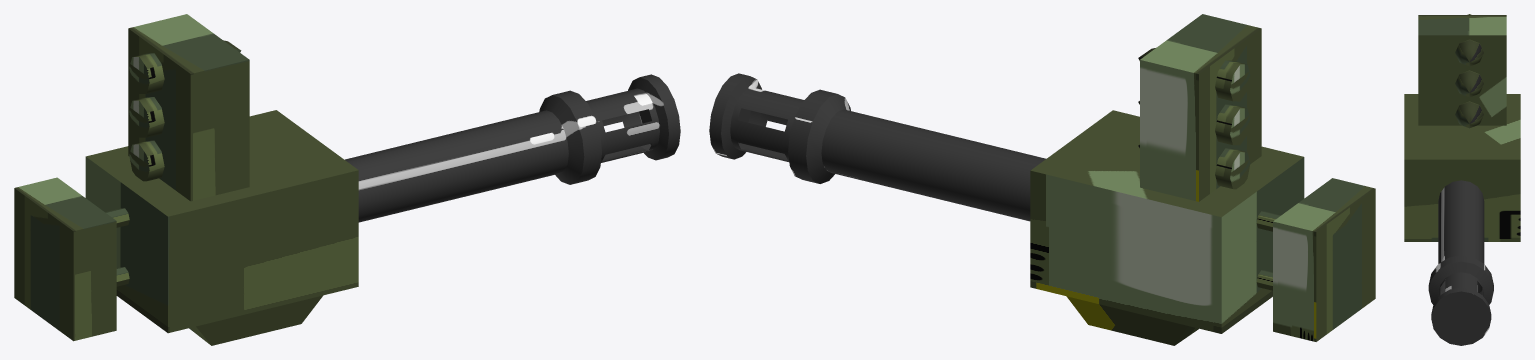
Rendered from turret_4_1.glb.
The picture shows the model from 3 angles, left to right: view 1: azimuth 30°, elevation 25°; view 2: azimuth 150°, elevation 25°; view 3: azimuth 270°, elevation 25°; orthographic projection. The views are drawn at different scales.
Visible parts, largest first — view 1: Turret1, Cannon, Turret1.001; view 2: Turret1, Cannon, Turret1.001; view 3: Turret1, Cannon.
Part boxes in pixels (x1=…): Turret1: x1=85, y1=14, x2=358, y2=345; Cannon: x1=345, y1=74, x2=680, y2=222; Turret1.001: x1=14, y1=177, x2=129, y2=341; Turret1: x1=1030, y1=14, x2=1304, y2=345; Cannon: x1=709, y1=73, x2=1046, y2=221; Turret1.001: x1=1256, y1=178, x2=1375, y2=341; Turret1: x1=1404, y1=14, x2=1520, y2=241; Cannon: x1=1428, y1=180, x2=1493, y2=345.
Size of the model in its own units: 3.57 by 1.5 by 0.8277.
5 materials, 5 textured.
